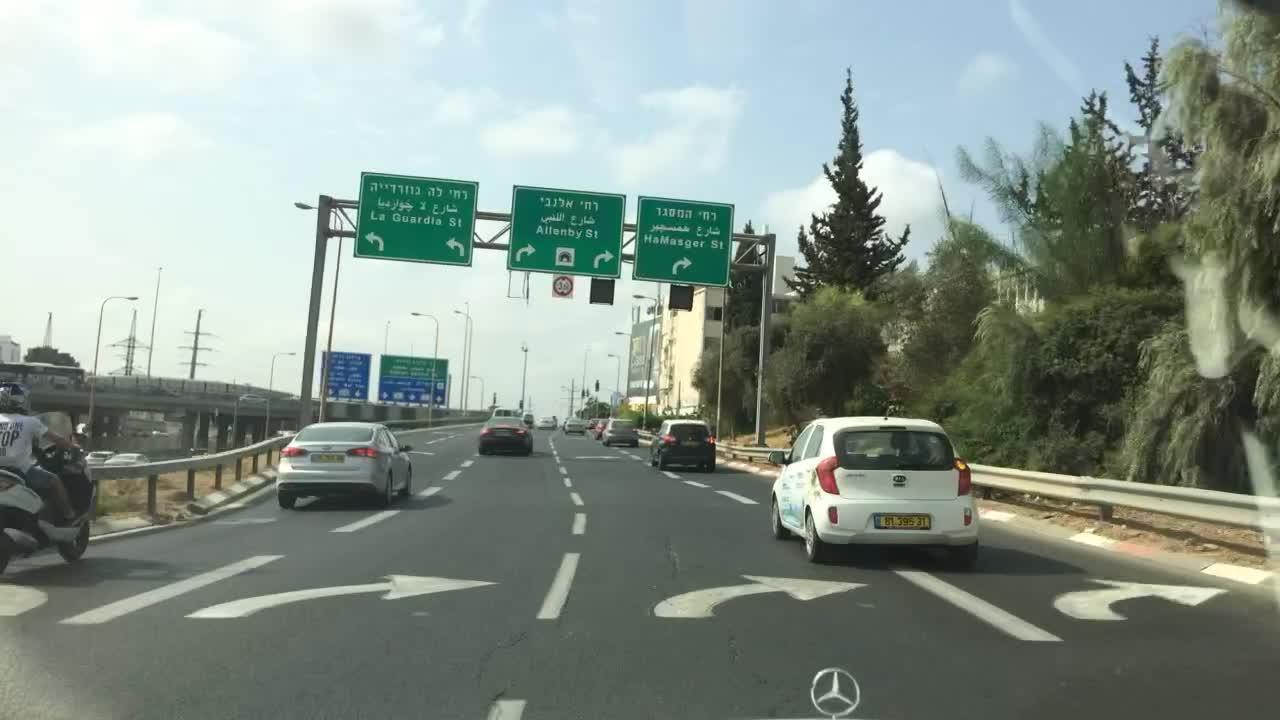Mercedes: (801, 662, 870, 720)
kia: (891, 472, 909, 483)
